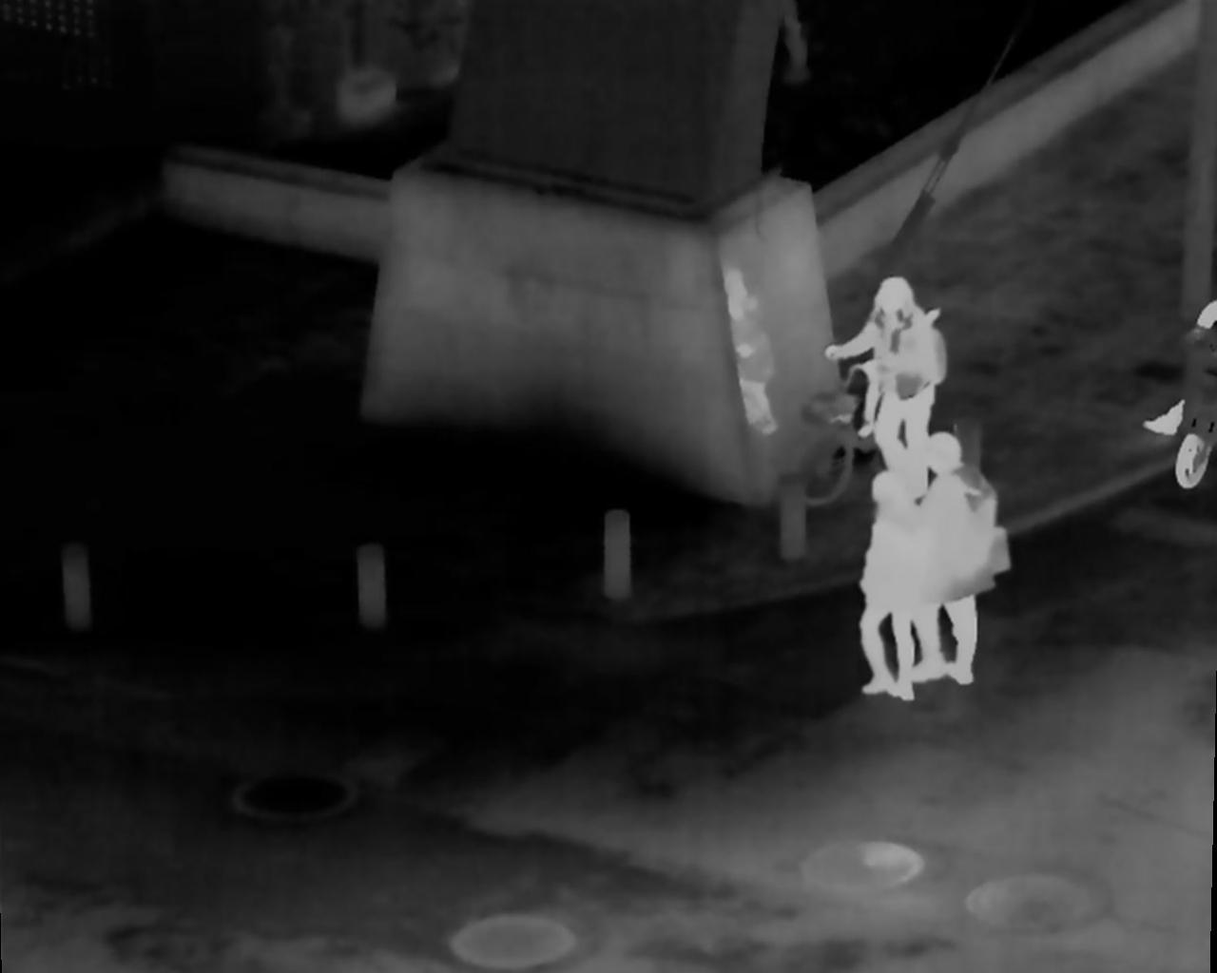person: (913, 432, 992, 684), (857, 276, 943, 454), (855, 474, 918, 713)
